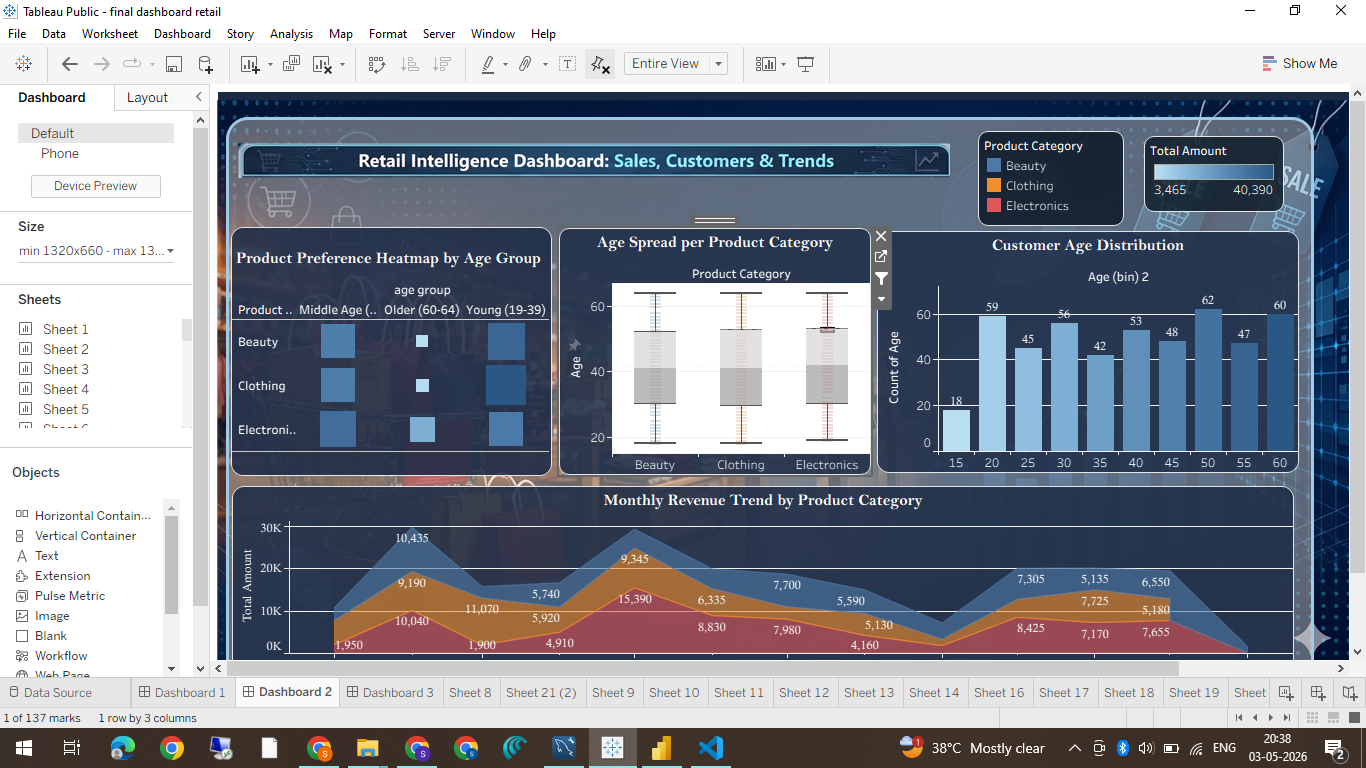

The dashboard page shown, as its layout file describes it:
{"tool":"tableau","page":{"name":"Dashboard 2","canvas":[1000,1000],"units":"permille","ordinal":1},"visuals":[{"type":"worksheet","title":"Sheet 22","mark":"Automatic","box":[5.9,10.8,869.6,281.8]},{"type":"image","param":"C:/Users/User/Downloads/Gemini_Generated_Image_a6kl17a6kl17a6kl.png","box":[5.3,24.2,862.9,963.6]},{"type":"worksheet","title":"Sheet 18","mark":"Pie","box":[12.1,50,824.2,901.5]},{"type":"legend","title":"Sheet 23","param":"[federated.1mgrzkx1p5xt441bh5t0h121fed6].[none:Product Category:nk]","box":[581.8,71.2,110.6,143.9]},{"type":"legend","title":"Sheet 13","param":"[federated.1mgrzkx1p5xt441bh5t0h121fed6].[sum:Total Amount:qk]","box":[707.6,78.8,106.1,115.2]},{"type":"image","param":"C:/Users/User/Downloads/Gemini_Generated_Image_nn3oj0nn3oj0nn3o (1).png","box":[21.2,89.4,539.4,116.7]},{"type":"worksheet","title":"Sheet 13","mark":"Square","rows":["Product Category"],"cols":["Calculation_1170767387840512"],"box":[15.9,216.7,243.2,377.3]},{"type":"worksheet","title":"Sheet 23","mark":"Automatic","rows":["Age"],"cols":["Product Category"],"box":[264.4,218.2,236.4,374.2]},{"type":"worksheet","title":"Sheet 14","mark":"Automatic","rows":["Age"],"cols":["Age (bin) 2"],"box":[505.3,222.7,319.7,366.7]},{"type":"worksheet","title":"Sheet 12","mark":"Area","rows":["Total Amount"],"cols":["Date"],"box":[16.7,609.1,804.6,328.8]}]}

Visuals, with their boxes on the dashboard's canvas, which has no fixed pixel size, in thousandths of its width and height (x1, y1, x2, y2). These are canvas units, not pixel positions in the 1366x768 screenshot, which may show the page scaled, cropped or inside an application window:
"Sheet 22" worksheet: 6 11 876 293
image: 5 24 868 988
"Sheet 18" worksheet (Pie marks): 12 50 836 952
"Sheet 23" legend: 582 71 692 215
"Sheet 13" legend: 708 79 814 194
image: 21 89 561 206
"Sheet 13" worksheet (Square marks): 16 217 259 594
"Sheet 23" worksheet: 264 218 501 592
"Sheet 14" worksheet: 505 223 825 589
"Sheet 12" worksheet (Area marks): 17 609 821 938
